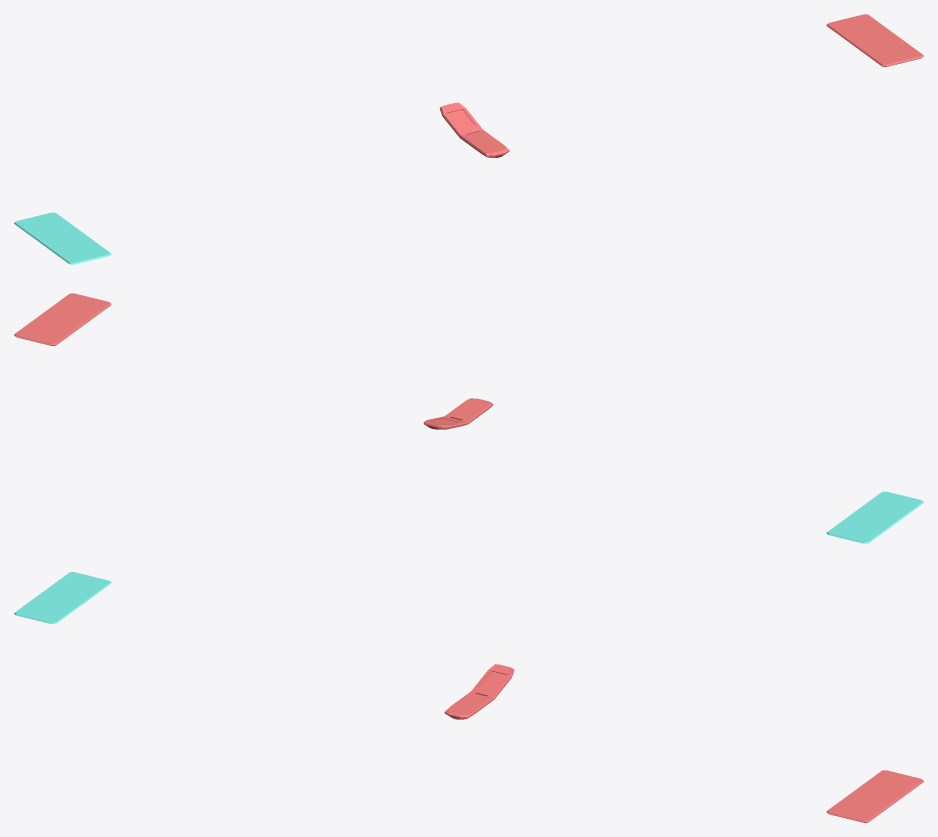
The model's file is phone.fbx.
3 views of the same model, one above another, from view 1: azimuth 30°, elevation 25°; view 2: azimuth 150°, elevation 25°; view 3: azimuth 330°, elevation 25° (orthographic).
Visible parts, largest first — view 1: smartphone, futuristicphone, oldphone; view 2: smartphone, futuristicphone, oldphone; view 3: smartphone, futuristicphone, oldphone.
Boxes of the visible parts, bbox=[...] form: smartphone: bbox=[826, 14, 923, 66]; futuristicphone: bbox=[14, 212, 111, 264]; oldphone: bbox=[439, 102, 509, 157]; smartphone: bbox=[14, 293, 111, 345]; futuristicphone: bbox=[826, 491, 923, 543]; oldphone: bbox=[423, 398, 493, 429]; smartphone: bbox=[826, 770, 923, 822]; futuristicphone: bbox=[14, 572, 111, 623]; oldphone: bbox=[444, 664, 514, 719].
Bounding box in the file's own units: 47.7 × 0.9127 × 5.67.
